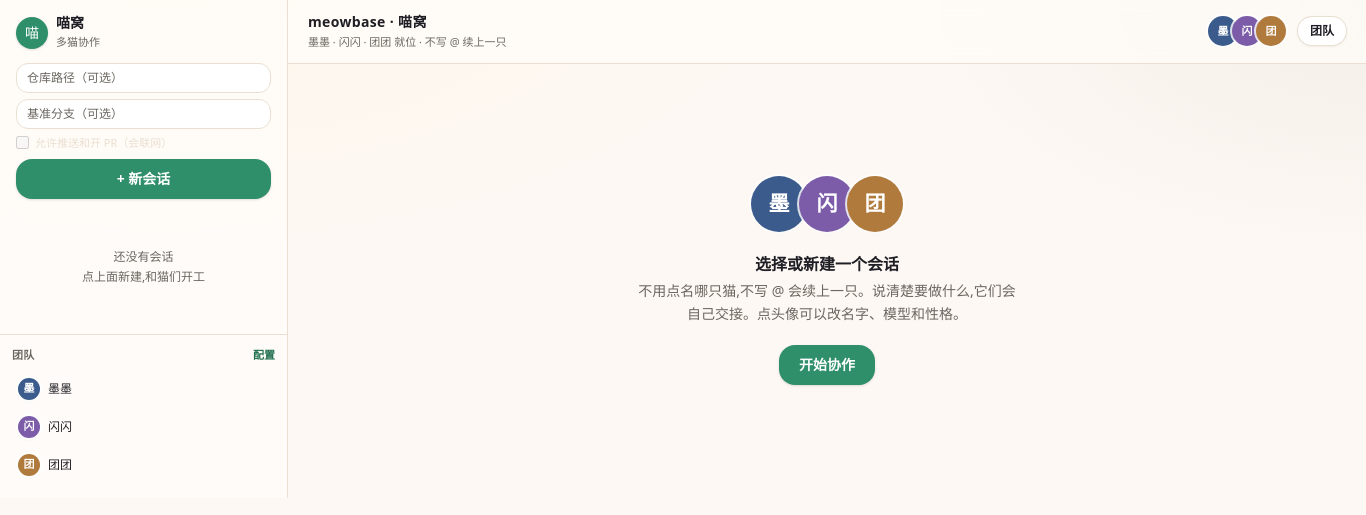
Scenario: Home 建会话 › 建会话 400 时展示服务端中文错误
Expected: the button "+ 新会话" is shown, [16,159,271,199]
In the field with placeholder "仓库路径（可选）": (144, 78) [16,62,271,92], type "/no/such/repo"
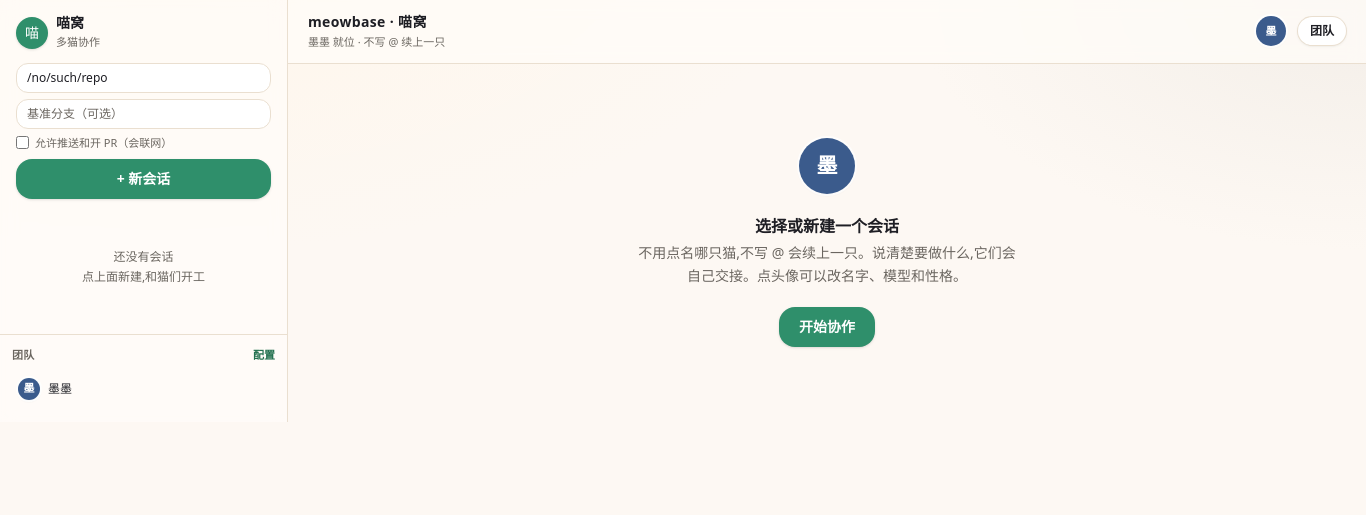
Click the button "+ 新会话": (144, 179) [16,159,271,199]
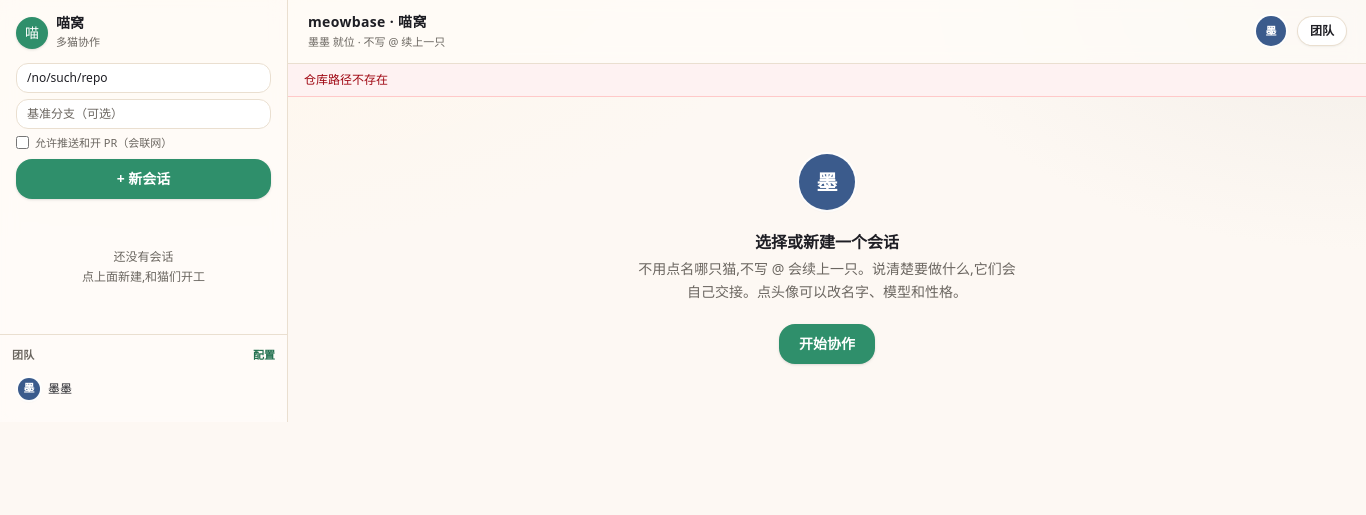
Now the text "仓库路径不存在" is shown, box [288,64,1365,96]
